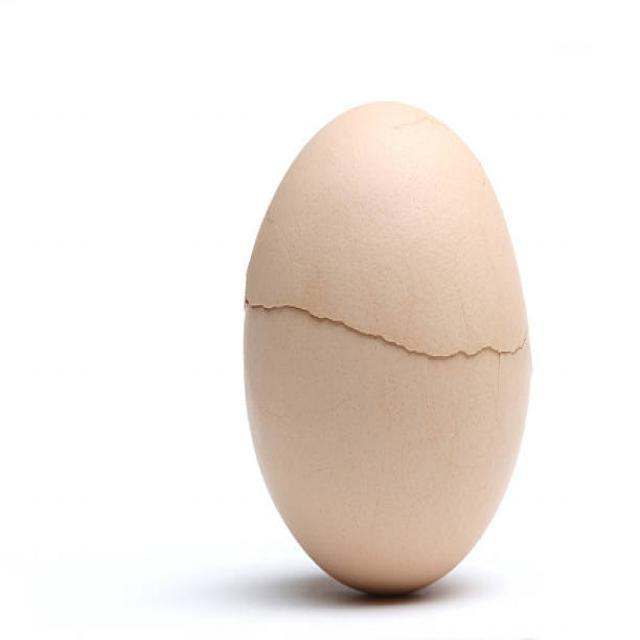biodegradable: (245, 98, 534, 598)
